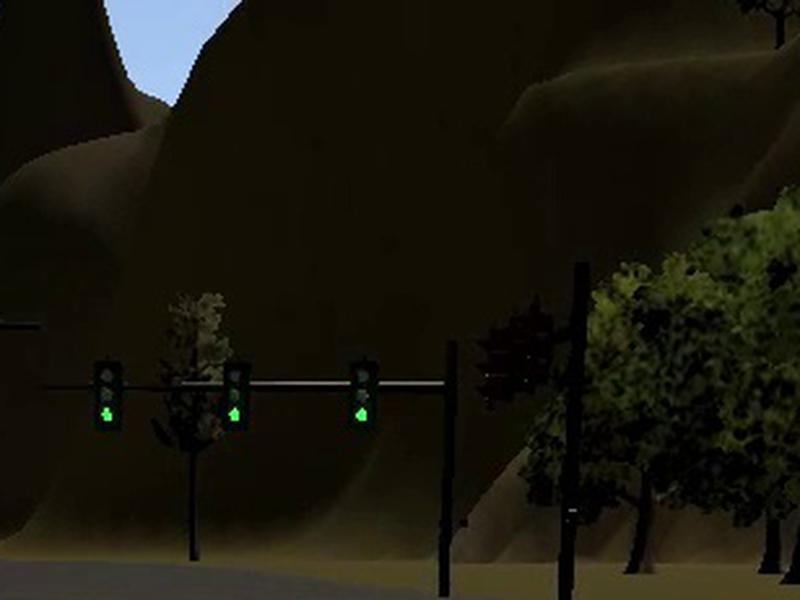Green: (93, 360, 123, 431), (348, 361, 378, 430), (222, 361, 250, 429)
